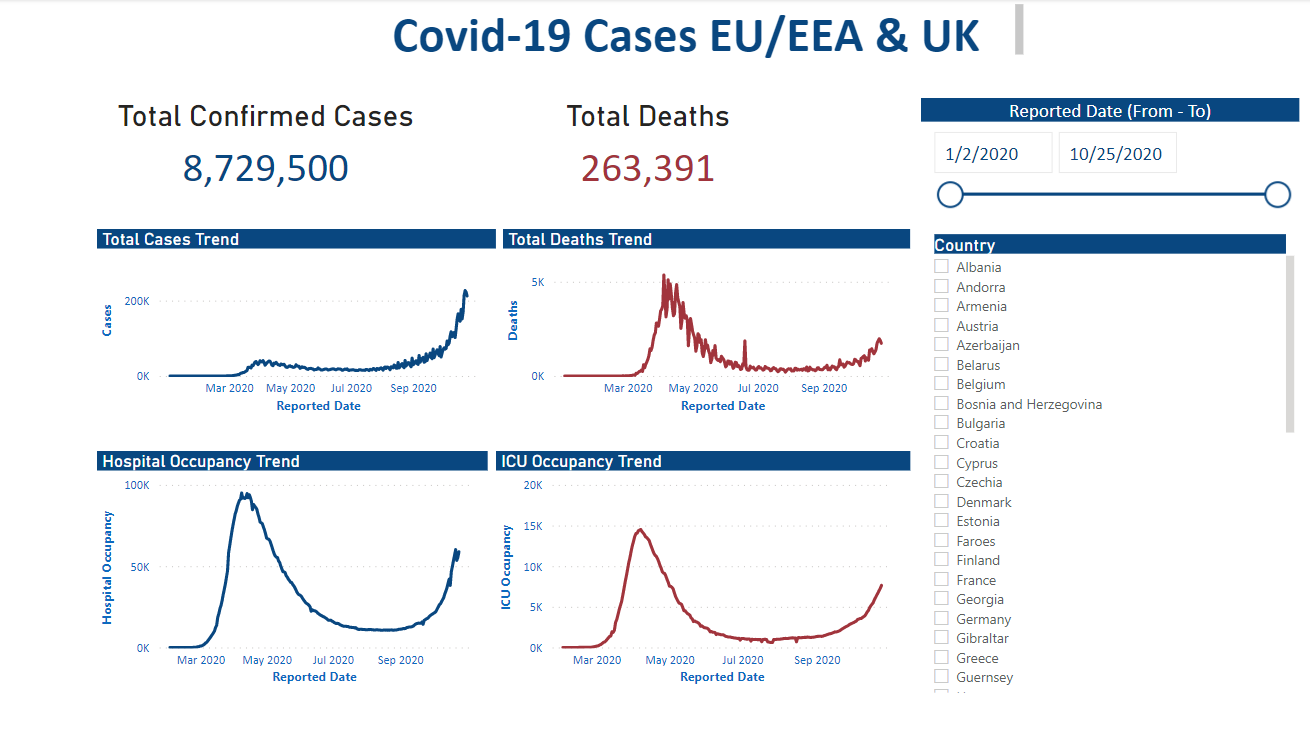

Layout of this report page (visuals, bound fields, positions):
{"tool":"powerbi","page":{"name":"Trends","canvas":[1280,720],"ordinal":0},"visuals":[{"type":"card","title":"Total Confirmed Cases","fields":{"Values":["Sum(covid_reporting cases_and_deaths.cases_count)"]},"box":[94.4,96,328,96],"z":0},{"type":"card","title":"Total Deaths","fields":{"Values":["Sum(covid_reporting cases_and_deaths.deaths_count)"]},"box":[454.4,96,352,96],"z":1000},{"type":"textbox","box":[376,0,624,64],"z":2000},{"type":"lineChart","title":"Total Cases Trend","fields":{"Category":["covid_reporting cases_and_deaths.reported_date"],"Y":["Sum(covid_reporting cases_and_deaths.cases_count)"]},"box":[94.3,223.7,388.1,183.8],"z":3000},{"type":"lineChart","title":"Total Deaths Trend","fields":{"Category":["covid_reporting cases_and_deaths.reported_date"],"Y":["Sum(covid_reporting cases_and_deaths.deaths_count)"]},"box":[489.2,223.7,395.9,183.8],"z":4000},{"type":"slicer","fields":{"Values":["covid_reporting cases_and_deaths.country"]},"box":[896,224,368,456],"z":5000},{"type":"lineChart","title":"Hospital Occupancy Trend","fields":{"Y":["Sum(covid_reporting hospital_admissions_daily.hospital_occupancy_count)"],"Category":["covid_reporting hospital_admissions_daily.reported_date"]},"box":[94.3,439.6,380.3,232.5],"z":6000},{"type":"lineChart","title":"ICU Occupancy Trend","fields":{"Y":["Sum(covid_reporting hospital_admissions_daily.icu_occupancy_count)"],"Category":["covid_reporting hospital_admissions_daily.reported_date"]},"box":[482.4,439.6,402.7,232.5],"z":7000},{"type":"slicer","title":"Reported Date (From - To)","fields":{"Values":["covid_reporting cases_and_deaths.reported_date"]},"box":[896,96,368,112],"z":8001}]}

Visuals, with their boxes in screenshot pixels (x1, y1, x2, y2), scaled from the page's 1280x720 canvas onto the 1310x739 screenshot:
"Total Confirmed Cases" card: bbox(97, 99, 432, 197)
"Total Deaths" card: bbox(465, 99, 825, 197)
textbox: bbox(385, 0, 1023, 66)
"Total Cases Trend" lineChart: bbox(97, 230, 494, 418)
"Total Deaths Trend" lineChart: bbox(501, 230, 906, 418)
slicer - covid_reporting cases_and_deaths.country: bbox(917, 230, 1294, 698)
"Hospital Occupancy Trend" lineChart: bbox(97, 451, 486, 690)
"ICU Occupancy Trend" lineChart: bbox(494, 451, 906, 690)
"Reported Date (From - To)" slicer: bbox(917, 99, 1294, 213)
